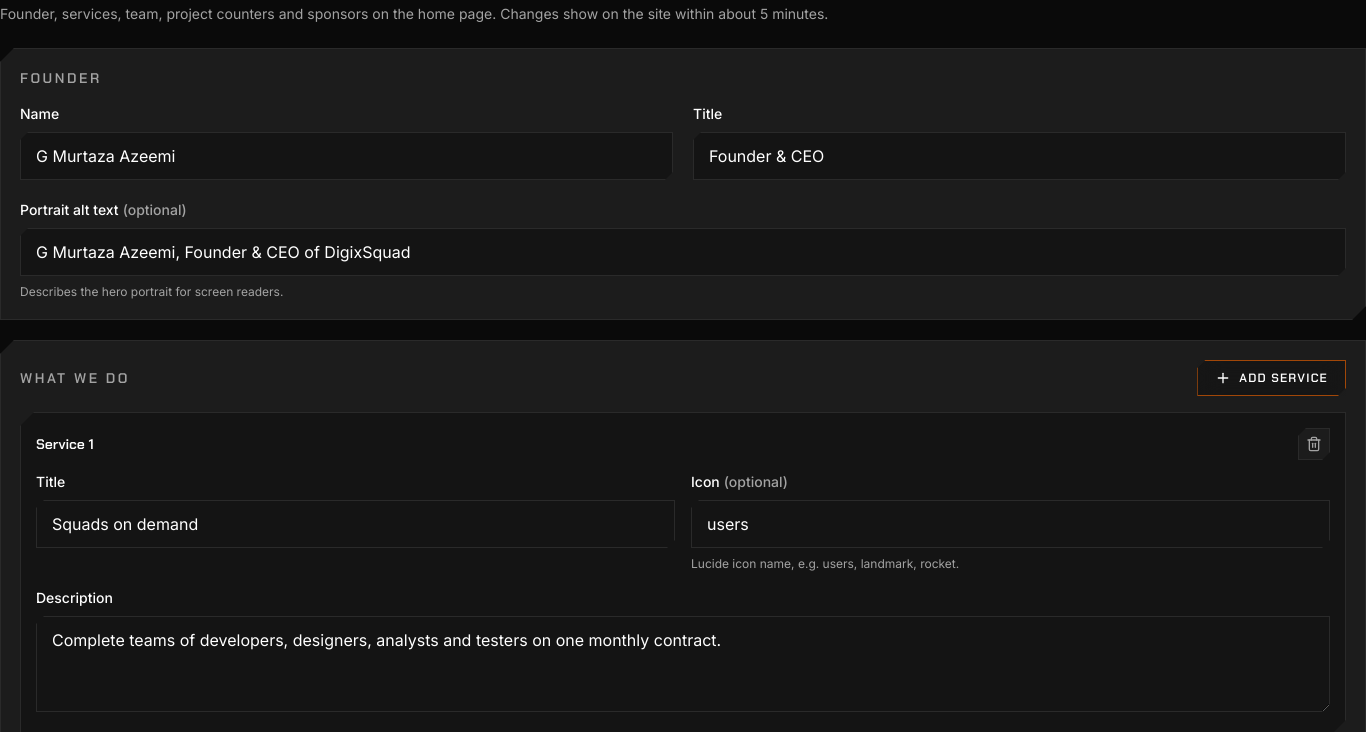
Test case: homepage editor › shows the API error when saving fails
Replace the text in the field labelled "Portrait alt text" with "New alt" at (683, 252), box [20,228,1346,276]
(page scrolled)
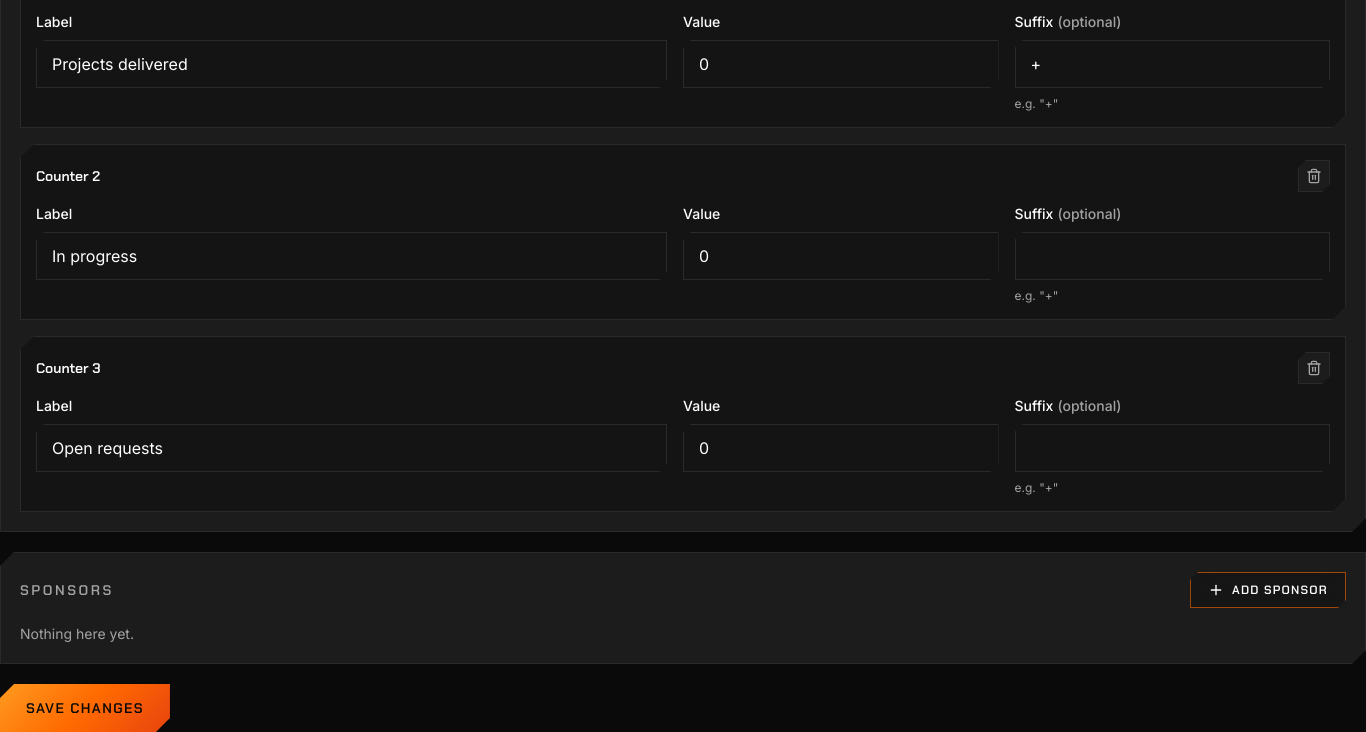
Click the button "Save changes" at (85, 708), box [0,684,170,731]
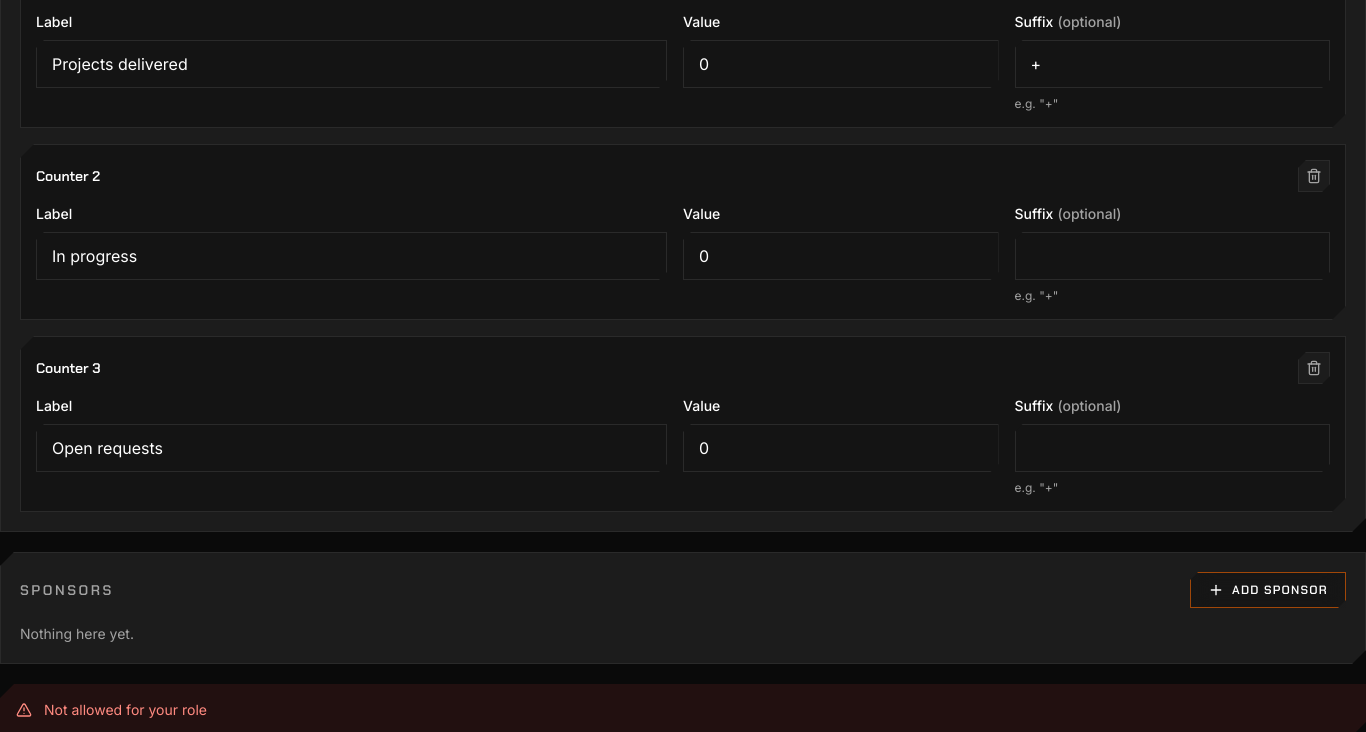
Expected: the text "Not allowed for your role" is shown, [44,701,207,718]
